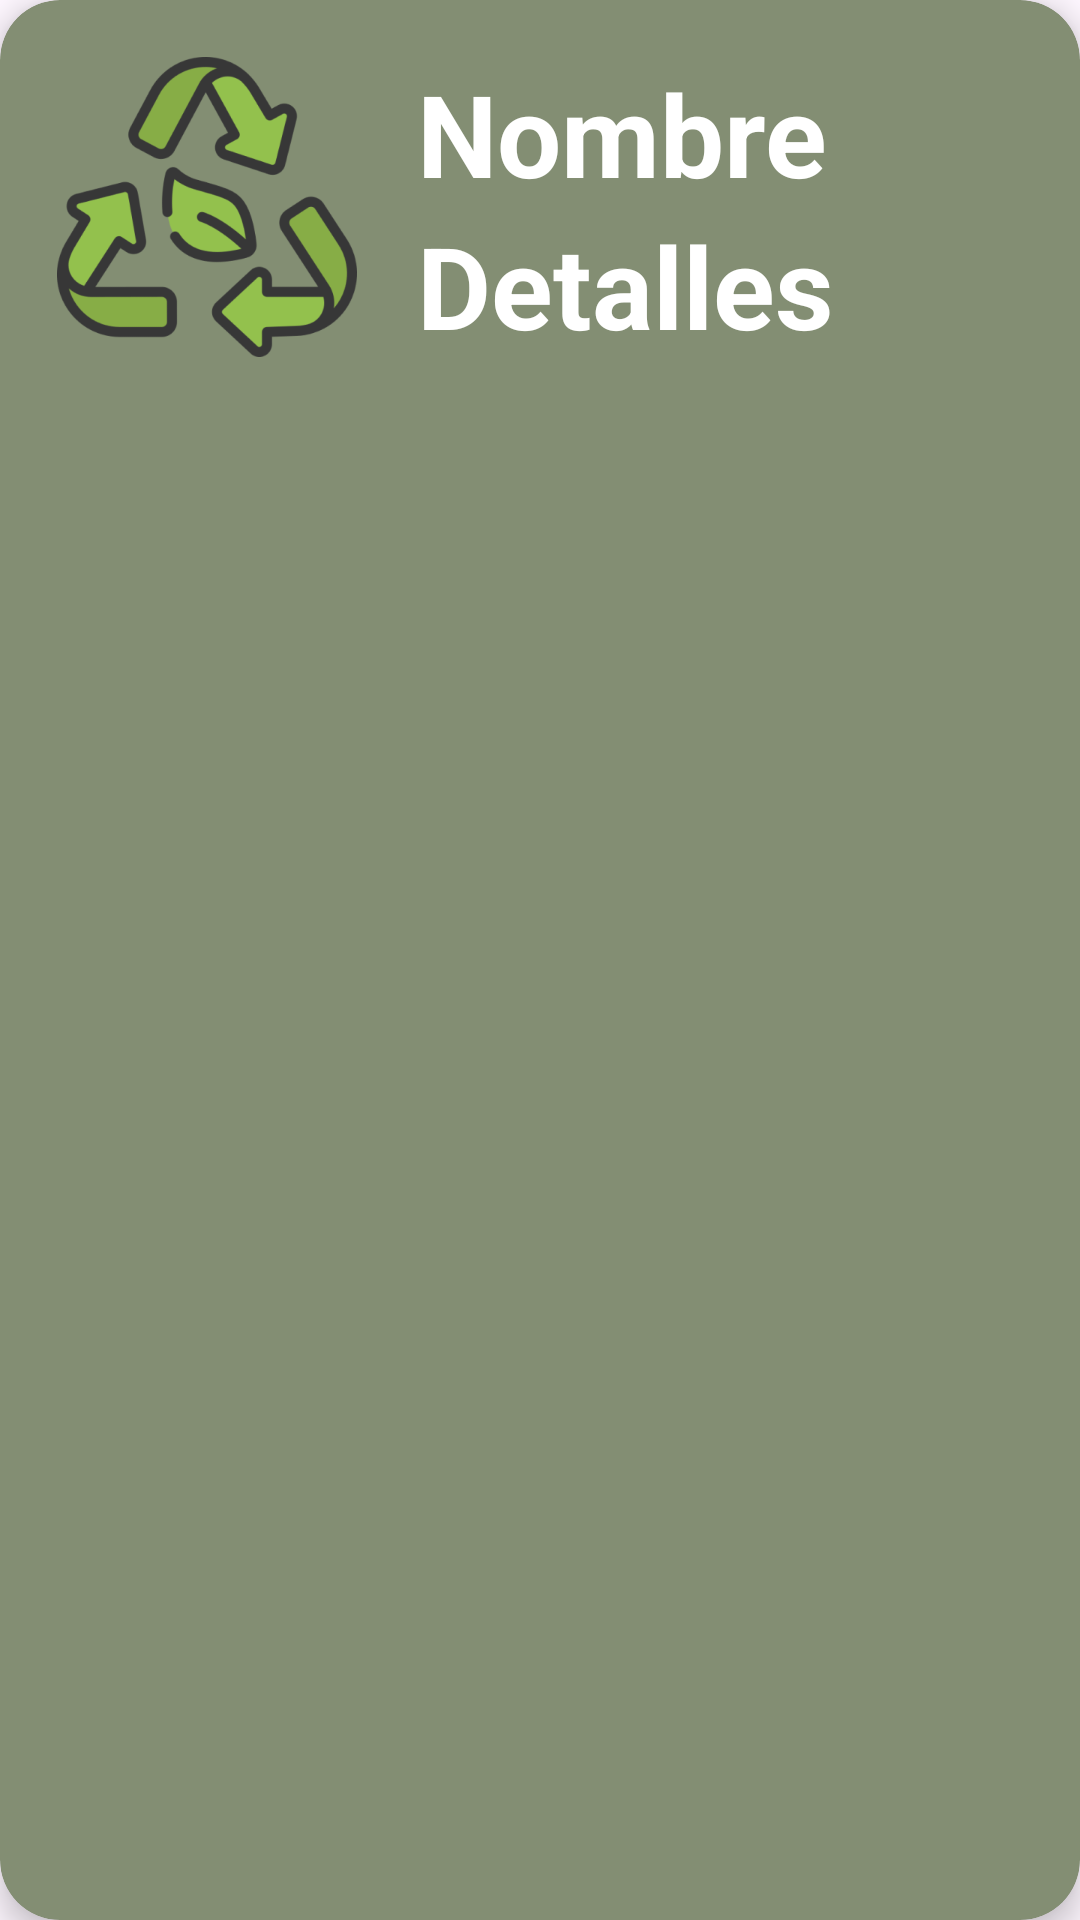

Locate icon controls on the screen. Image size 1080px x 1920px, boxes as (x1, y1, x2, y2).
reciclar: (57, 57, 357, 357)
